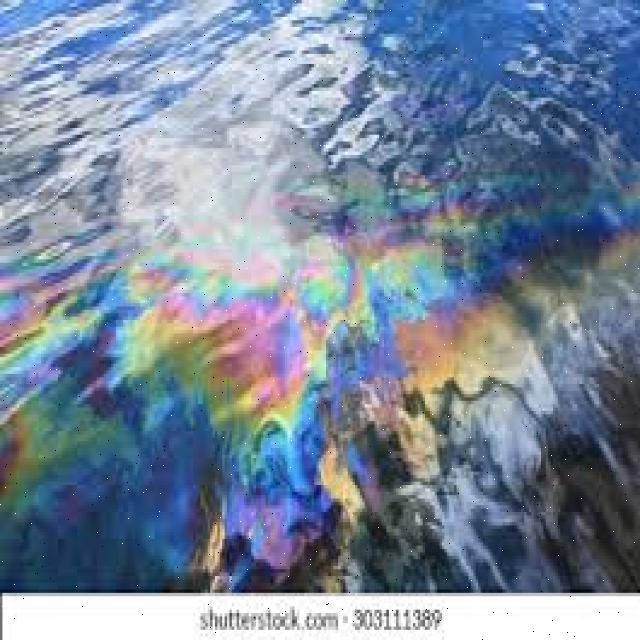rainbow: (0, 236, 534, 593)
sheen: (0, 3, 370, 285)
